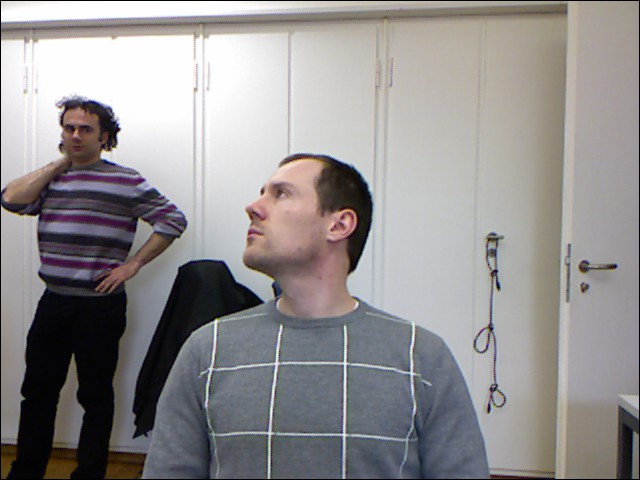deflection: (176, 158, 468, 427), (26, 92, 163, 237)
